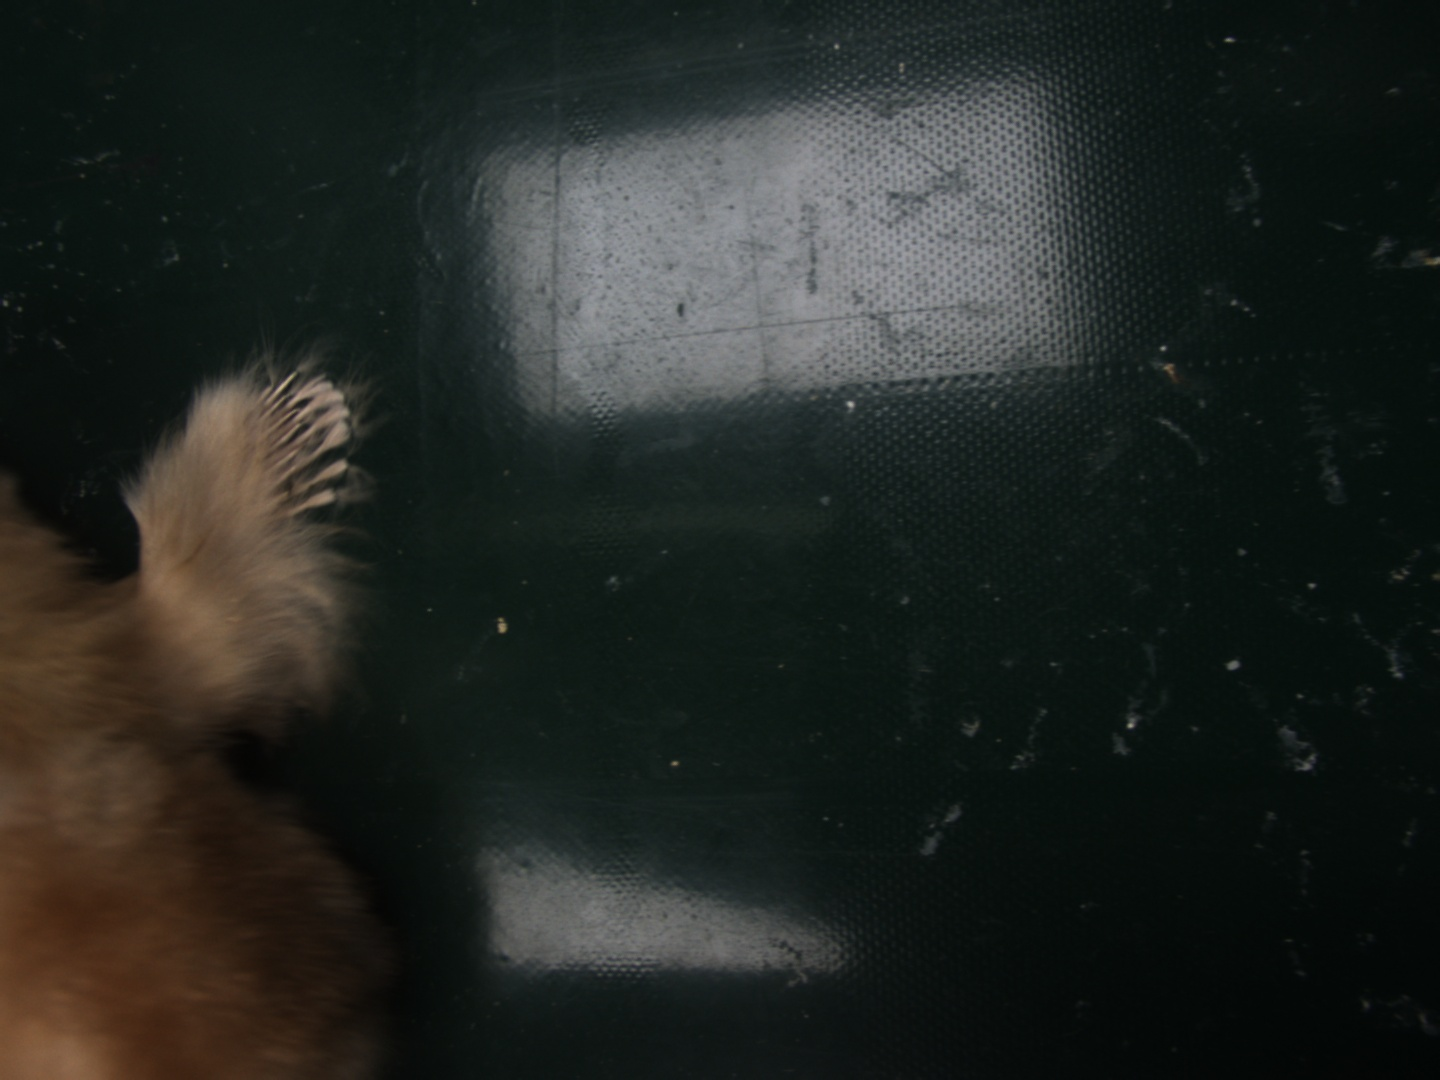female: (247, 365, 356, 523)
